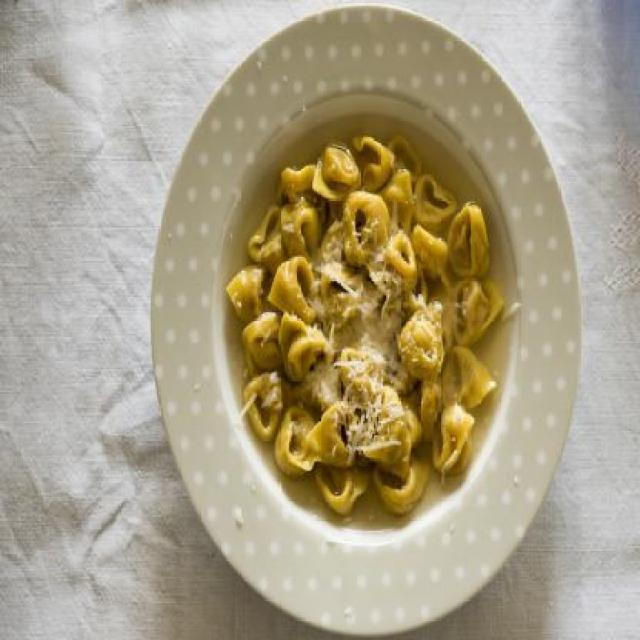Tortellini in broth: (232, 146, 508, 514)
